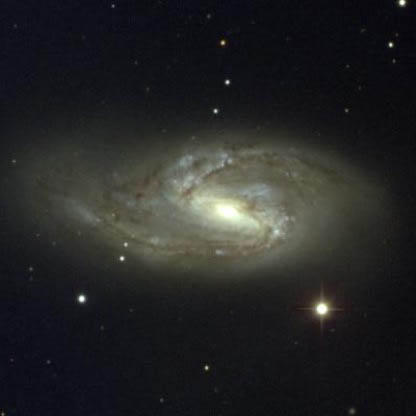Messier 66: (30, 113, 393, 334)
